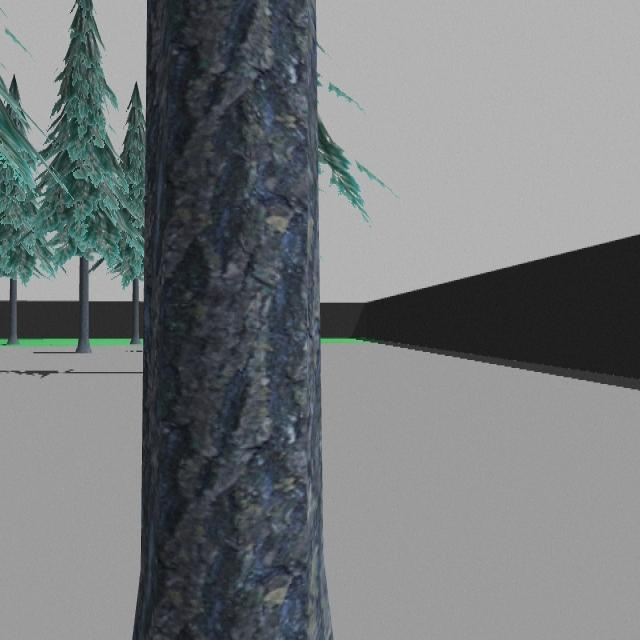tree: (132, 0, 334, 640), (35, 0, 127, 355)
